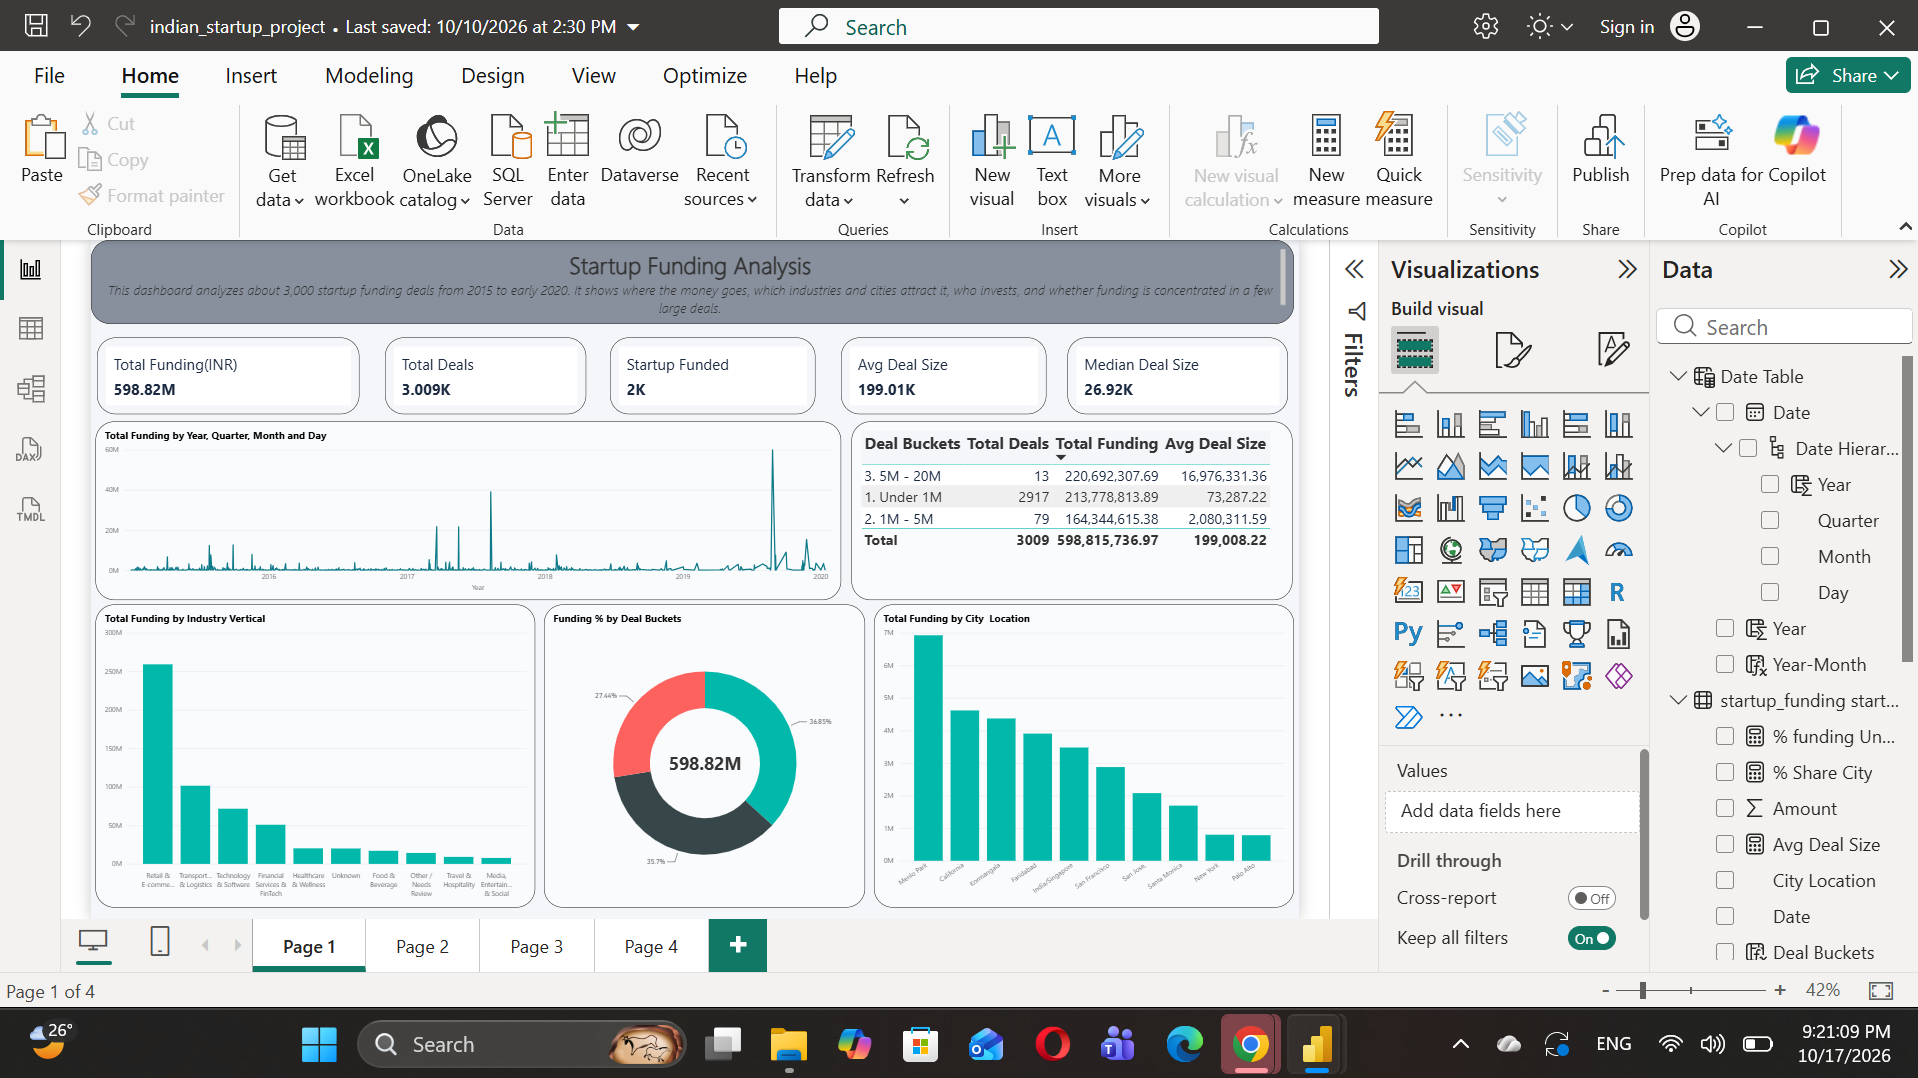

Layout of this report page (visuals, bound fields, positions):
{"tool":"powerbi","page":{"name":"Page 1","canvas":[1920,1080],"ordinal":0},"visuals":[{"type":"columnChart","fields":{"Category":["cleaned_startup_funding.City  Location"],"Y":["cleaned_startup_funding.Total Funding"]},"box":[1245.4,579.8,668.1,482],"z":5000},{"type":"tableEx","fields":{"Values":["cleaned_startup_funding.Deal Buckets","cleaned_startup_funding.Total Deals","cleaned_startup_funding.Total Funding","cleaned_startup_funding.Avg Deal Size"]},"box":[1209.7,288.7,701.5,283.9],"z":7000},{"type":"lineChart","fields":{"Y":["cleaned_startup_funding.Total Funding"],"Category":["Date Table.Date.Variation.Date Hierarchy.Year","Date Table.Date.Variation.Date Hierarchy.Quarter","Date Table.Date.Variation.Date Hierarchy.Month","Date Table.Date.Variation.Date Hierarchy.Day"]},"box":[7.2,288.7,1185.8,283.9],"z":8000},{"type":"donutChart","fields":{"Category":["cleaned_startup_funding.Deal Buckets"],"Y":["cleaned_startup_funding.Funding %"]},"box":[720.5,579.8,510.6,482],"z":9000},{"type":"textbox","box":[0,0,1913.5,133.6],"z":10000},{"type":"cardVisual","fields":{"Data":["startup_funding startup_funding.Total Funding"]},"box":[9.5,155.1,417.5,121.7],"z":10001},{"type":"cardVisual","fields":{"Data":["startup_funding startup_funding.Total Deals"]},"box":[467.6,155.1,319.7,121.7],"z":10002},{"type":"cardVisual","fields":{"Data":["startup_funding startup_funding.Startup Funded"]},"box":[825.5,155.1,326.9,121.7],"z":10003},{"type":"cardVisual","fields":{"Data":["startup_funding startup_funding.Avg Deal Size"]},"box":[1193,155.1,326.9,121.7],"z":10004},{"type":"cardVisual","fields":{"Data":["startup_funding startup_funding.Median Deal Size"]},"box":[1553.2,155.1,350.7,121.7],"z":10005},{"type":"columnChart","fields":{"Category":["startup_funding startup_funding.Industry Vertical"],"Y":["startup_funding startup_funding.Total Funding"]},"box":[7.2,579.8,699.1,482],"z":10006}]}

Visuals, with their boxes on the page's 1920x1080 design canvas (x1, y1, x2, y2). These are canvas units, not pixel positions in the 1918x1078 screenshot, which may show the page scaled, cropped or inside an application window:
columnChart - cleaned_startup_funding.City  Location x cleaned_startup_funding.Total Funding: [x1=1245, y1=580, x2=1914, y2=1062]
tableEx - cleaned_startup_funding.Deal Buckets x cleaned_startup_funding.Total Deals: [x1=1210, y1=289, x2=1911, y2=573]
lineChart - cleaned_startup_funding.Total Funding x Date Table.Date.Variation.Date Hierarchy.Year: [x1=7, y1=289, x2=1193, y2=573]
donutChart - cleaned_startup_funding.Deal Buckets x cleaned_startup_funding.Funding %: [x1=720, y1=580, x2=1231, y2=1062]
textbox: [x1=0, y1=0, x2=1914, y2=134]
cardVisual - startup_funding startup_funding.Total Funding: [x1=10, y1=155, x2=427, y2=277]
cardVisual - startup_funding startup_funding.Total Deals: [x1=468, y1=155, x2=787, y2=277]
cardVisual - startup_funding startup_funding.Startup Funded: [x1=826, y1=155, x2=1152, y2=277]
cardVisual - startup_funding startup_funding.Avg Deal Size: [x1=1193, y1=155, x2=1520, y2=277]
cardVisual - startup_funding startup_funding.Median Deal Size: [x1=1553, y1=155, x2=1904, y2=277]
columnChart - startup_funding startup_funding.Industry Vertical x startup_funding startup_funding.Total Funding: [x1=7, y1=580, x2=706, y2=1062]
